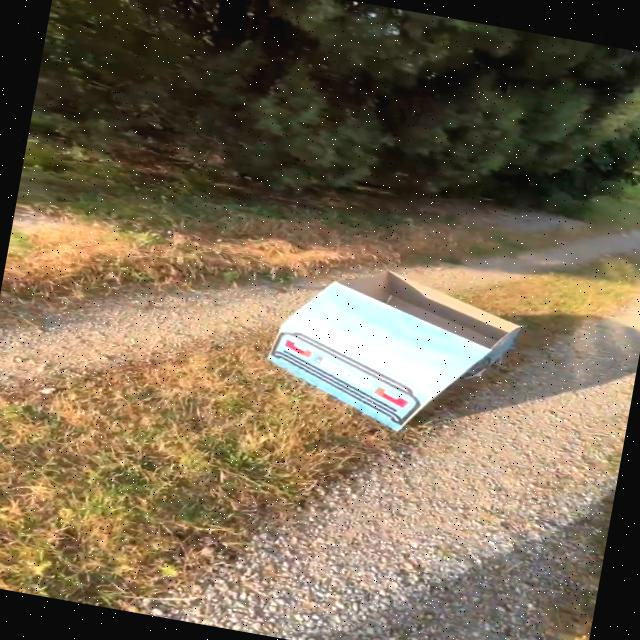blue_car: (227, 224, 545, 479)
